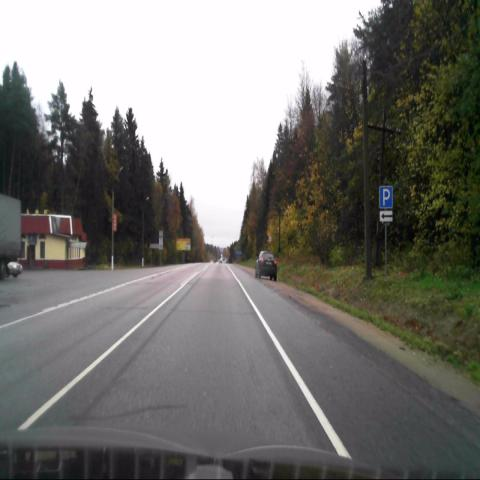6_4: (380, 186, 392, 208)
